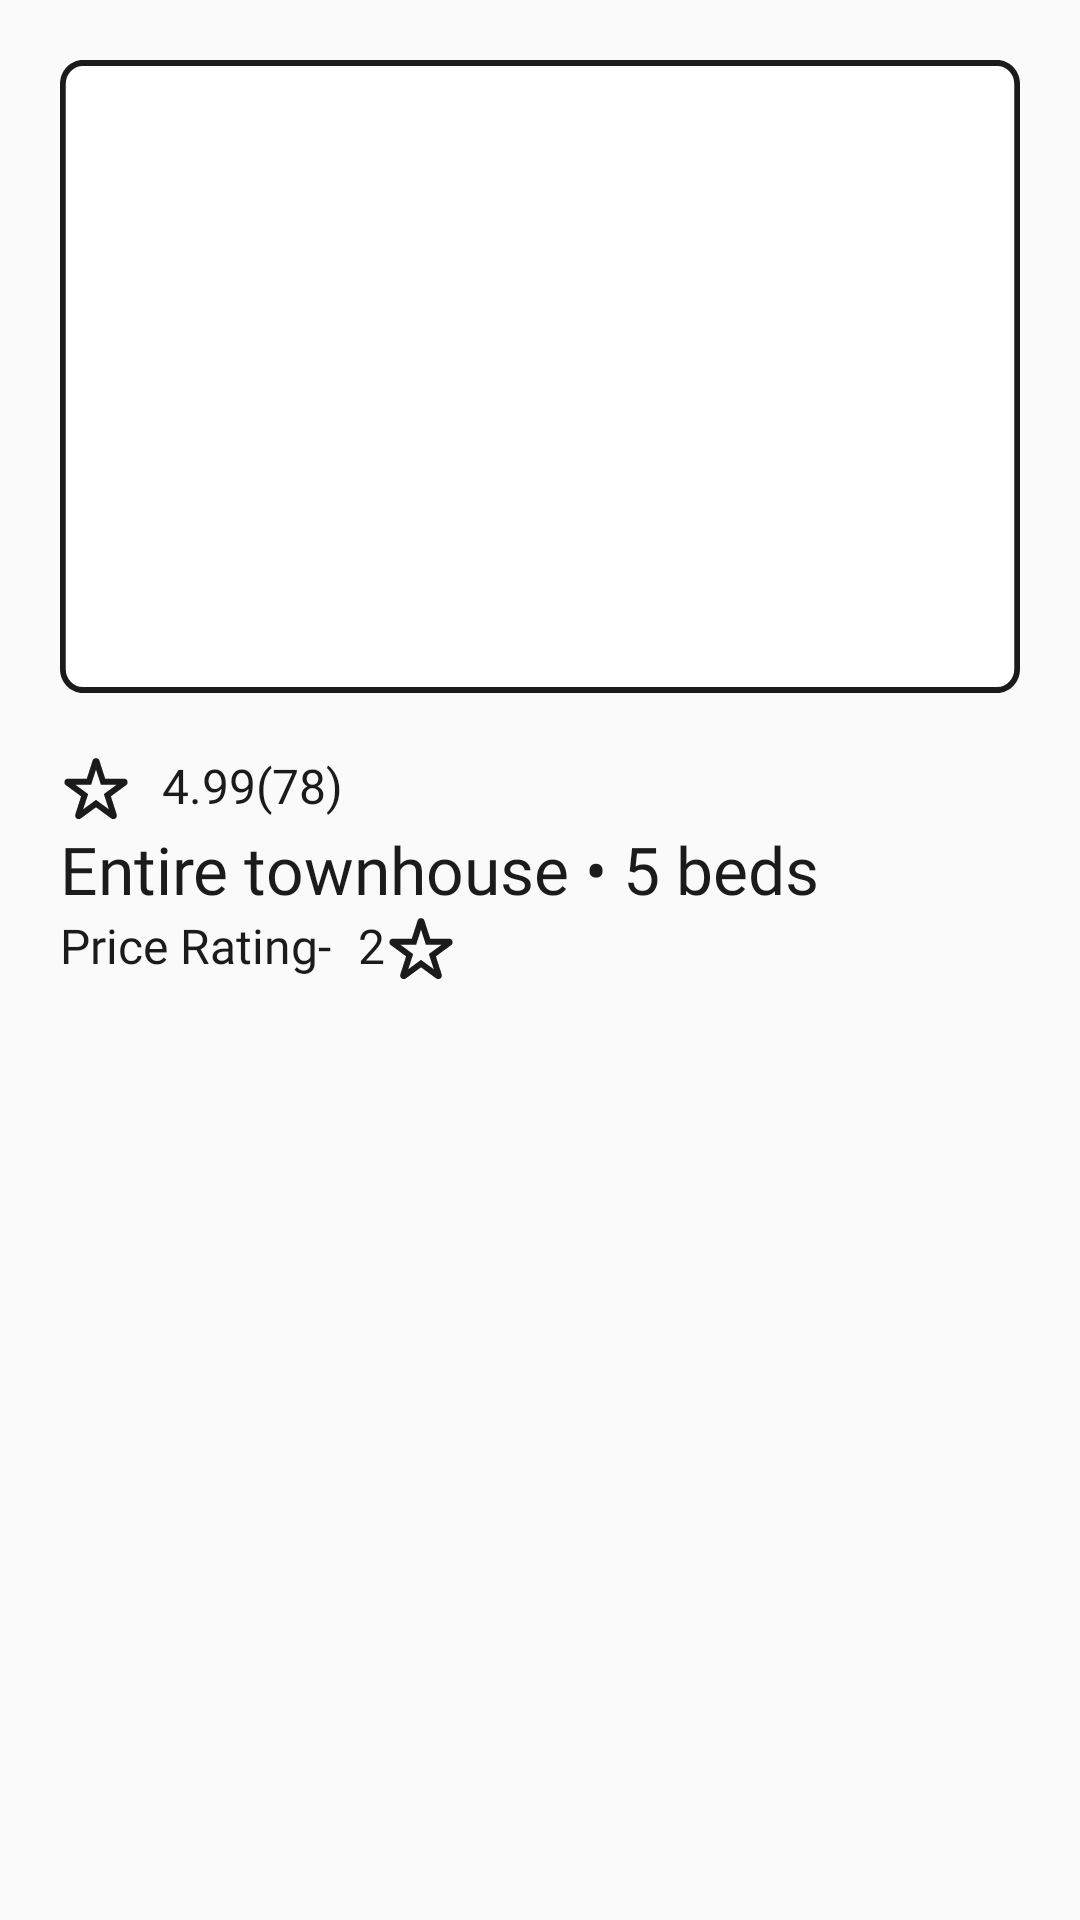

Screen size 1080×1920. Icon name, then its box in pixels as (x1, y1, x2, y2):
star: (64, 758, 128, 819), (389, 918, 453, 979)
